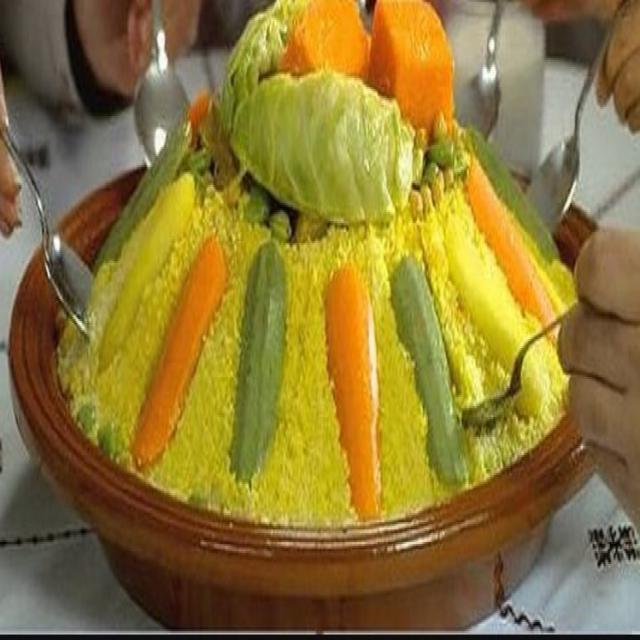Couscous: (57, 0, 575, 522)
